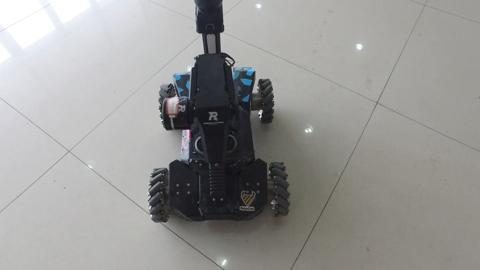chariot: (134, 10, 304, 234)
